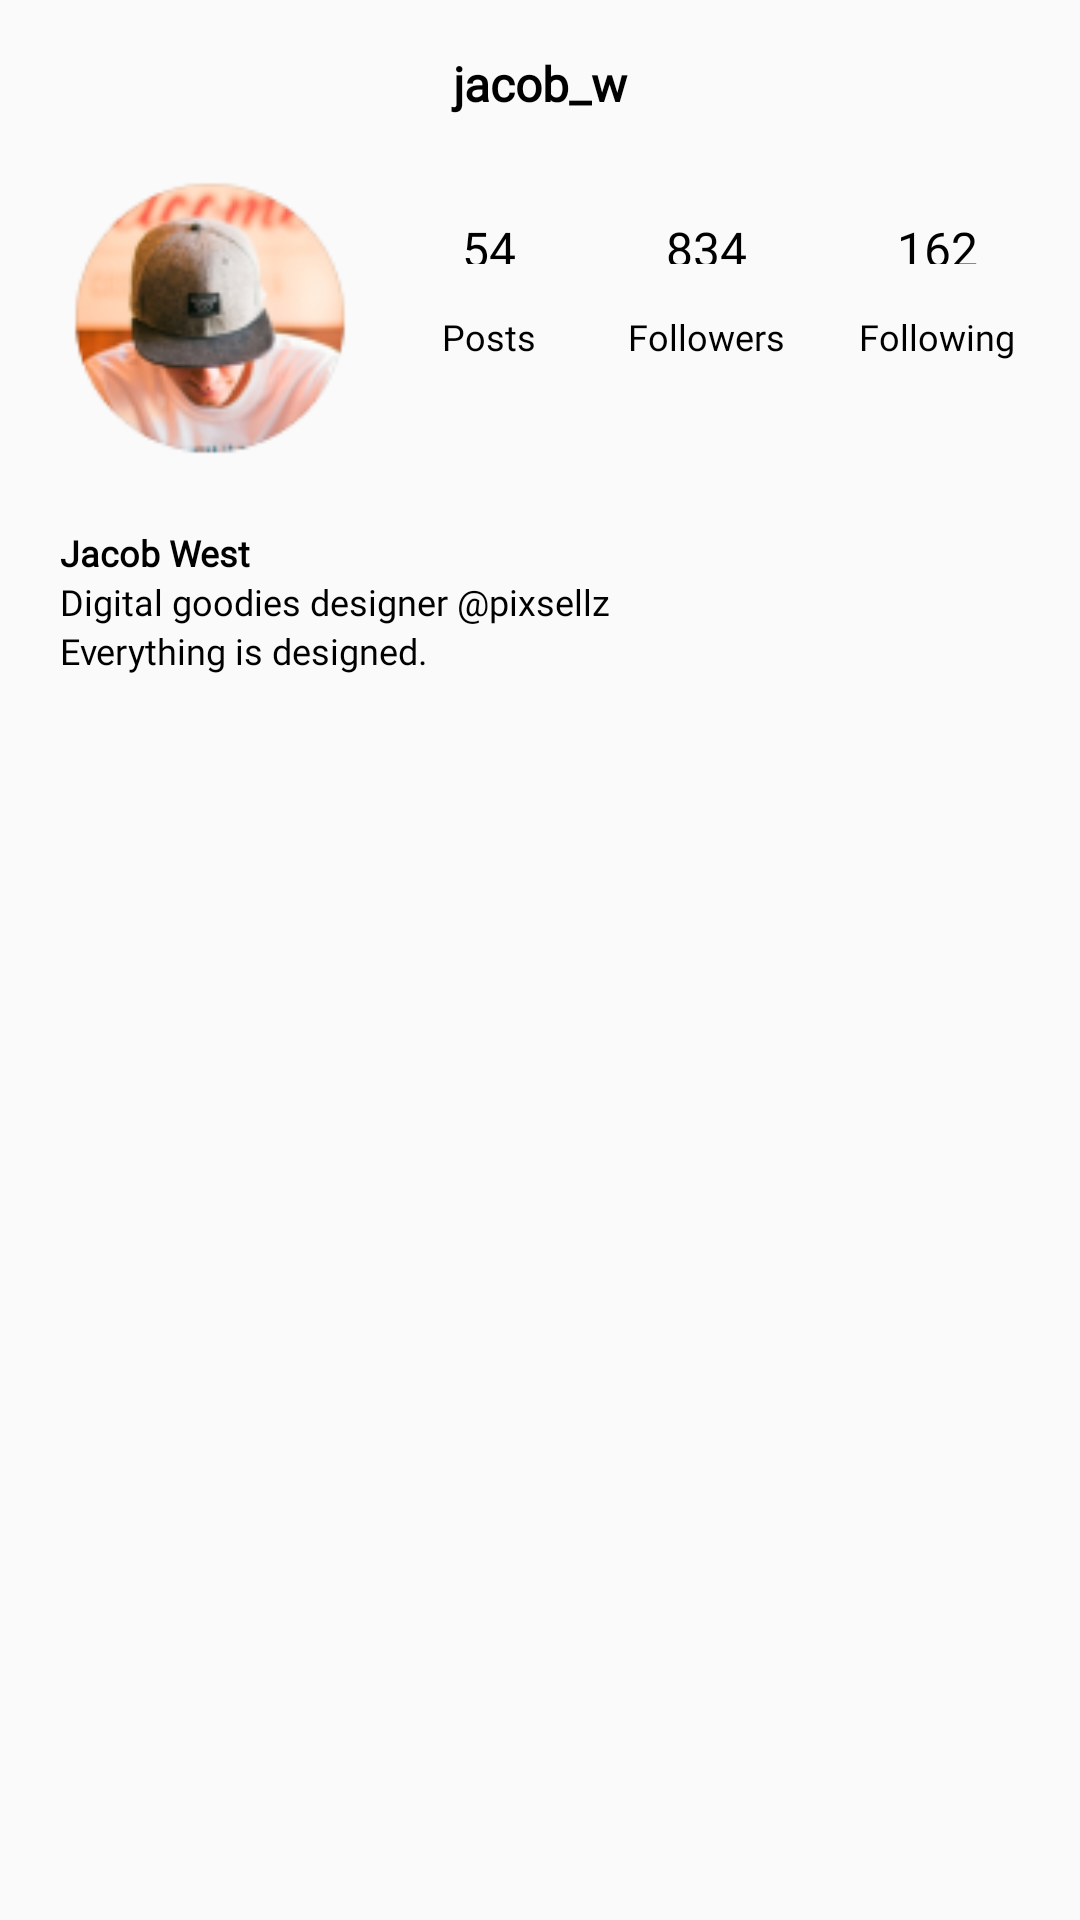

Screen size 1080px x 1920px. Icon name, then its box in pixels as (x1, y1, x2, y2):
photo: (74, 183, 345, 453)
